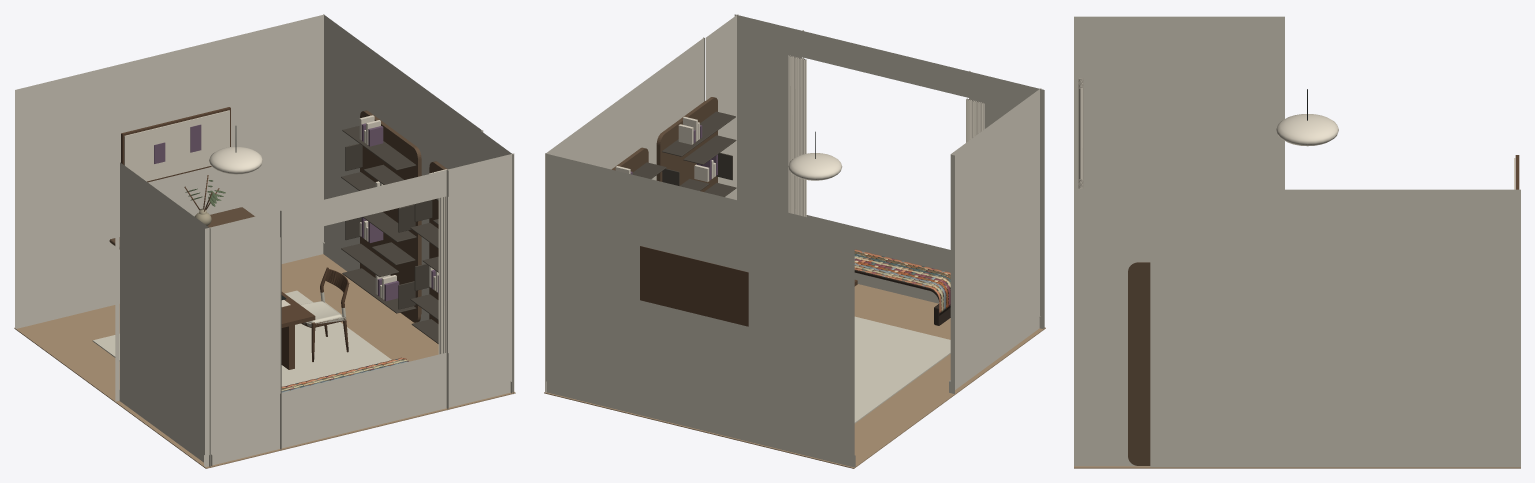
Rendered from formal-1.glb.
3 views of the same model, side by side, from view 1: azimuth 30°, elevation 25°; view 2: azimuth 150°, elevation 25°; view 3: azimuth 270°, elevation 25° (orthographic). The views are drawn at different scales.
Parts seen in each view (by area): view 1: DESIGN | formal removable wall finish, DESIGN | formal floor finish, DESIGN | Required Blabla bookcase 2, DESIGN | Textile artwork, DESIGN | Formal ground, DESIGN | Required Blabla bookcase 1, DESIGN | Working chair facing desk, DESIGN | Formal soft window edge.001, DESIGN | Library shaded light shade, DESIGN | Required Brera anniversary window bench, DESIGN | Quiet artwork frame, DESIGN | Working desk top (+2 smaller); view 2: DESIGN | formal removable wall finish, DESIGN | formal floor finish, DESIGN | Quiet artwork frame, DESIGN | Formal ground, DESIGN | Required Blabla bookcase 1, DESIGN | Required Brera anniversary window bench, DESIGN | Formal soft window edge.001, DESIGN | Library shaded light shade, DESIGN | Required Blabla bookcase 2, DESIGN | Formal soft window edge; view 3: DESIGN | formal removable wall finish, DESIGN | Required Blabla bookcase 1, DESIGN | Library shaded light shade, DESIGN | formal floor finish, DESIGN | Formal soft window edge.
Part boxes in pixels (x1,y1,x2,y2): DESIGN | formal removable wall finish: (15, 14, 514, 466); DESIGN | formal floor finish: (14, 254, 515, 468); DESIGN | Required Blabla bookcase 2: (341, 110, 421, 322); DESIGN | Textile artwork: (124, 110, 229, 181); DESIGN | Formal ground: (92, 290, 391, 386); DESIGN | Required Blabla bookcase 1: (410, 161, 447, 343); DESIGN | Working chair facing desk: (300, 267, 349, 361); DESIGN | Formal soft window edge.001: (438, 196, 446, 354); DESIGN | Library shaded light shade: (209, 146, 262, 174); DESIGN | Required Brera anniversary window bench: (281, 357, 409, 392); DESIGN | Quiet artwork frame: (121, 107, 230, 182); DESIGN | Working desk top: (281, 292, 315, 327); DESIGN | formal removable wall finish: (545, 14, 1044, 467); DESIGN | formal floor finish: (544, 284, 1045, 468); DESIGN | Quiet artwork frame: (640, 246, 748, 326); DESIGN | Formal ground: (854, 316, 950, 423); DESIGN | Required Blabla bookcase 1: (656, 97, 736, 196); DESIGN | Required Brera anniversary window bench: (854, 249, 950, 325); DESIGN | Formal soft window edge.001: (788, 55, 806, 216); DESIGN | Library shaded light shade: (788, 153, 842, 180); DESIGN | Required Blabla bookcase 2: (611, 147, 666, 178); DESIGN | Formal soft window edge: (966, 98, 984, 142); DESIGN | formal removable wall finish: (1074, 16, 1520, 467); DESIGN | Required Blabla bookcase 1: (1128, 262, 1150, 465); DESIGN | Library shaded light shade: (1276, 114, 1338, 146); DESIGN | formal floor finish: (1074, 466, 1520, 468); DESIGN | Formal soft window edge: (1078, 78, 1083, 181).
Size of the model in its own units: 3.71 by 2.74 by 3.98.
